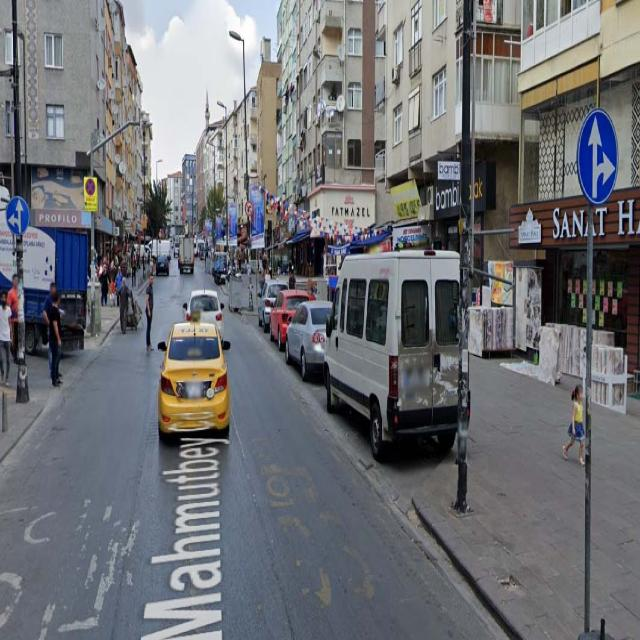ilerisag: (578, 109, 619, 204)
ilerisol: (6, 196, 28, 236)
